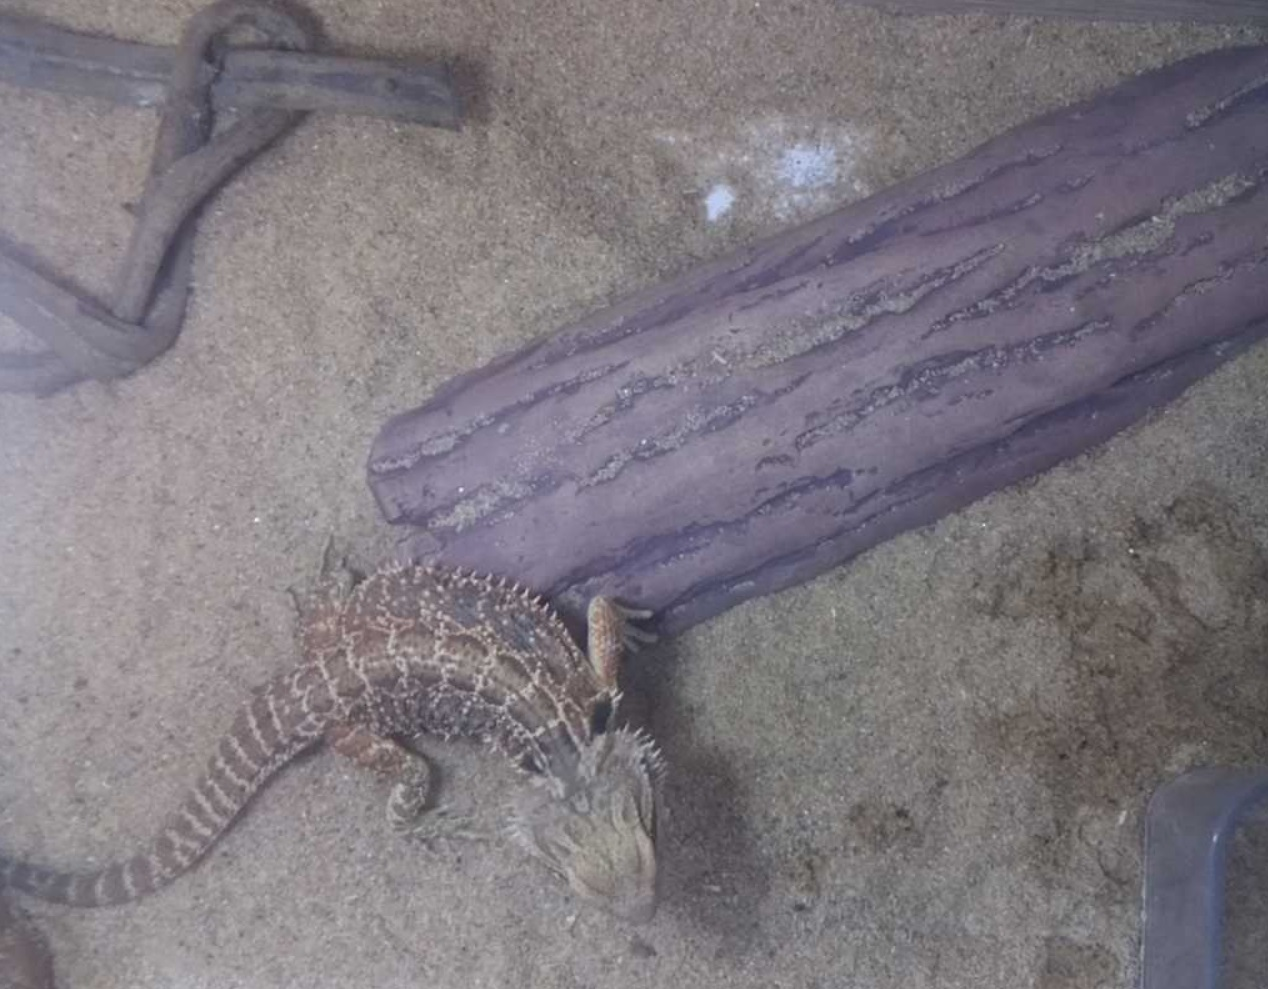bearded: (1, 531, 674, 915)
